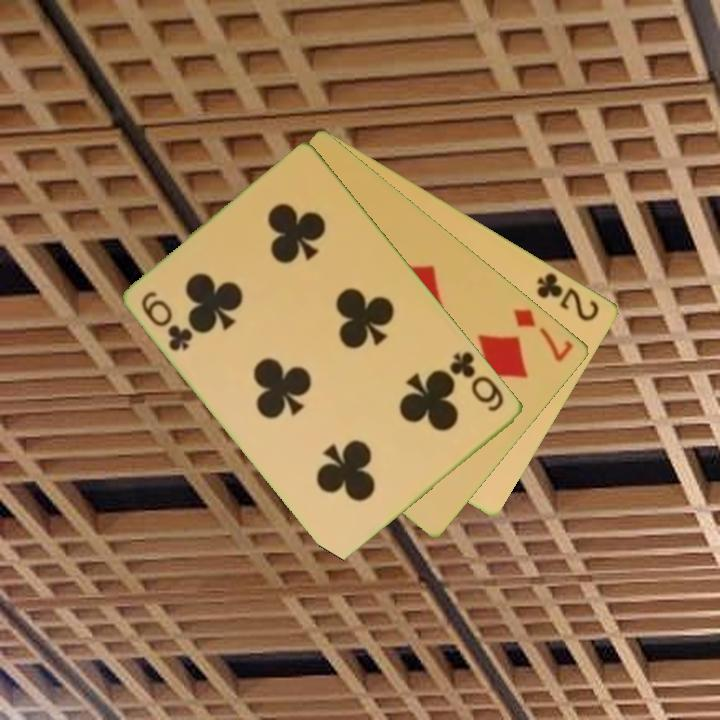2c: (533, 268, 603, 325)
6c: (446, 348, 508, 415), (138, 287, 197, 354)
7d: (510, 305, 577, 365)
